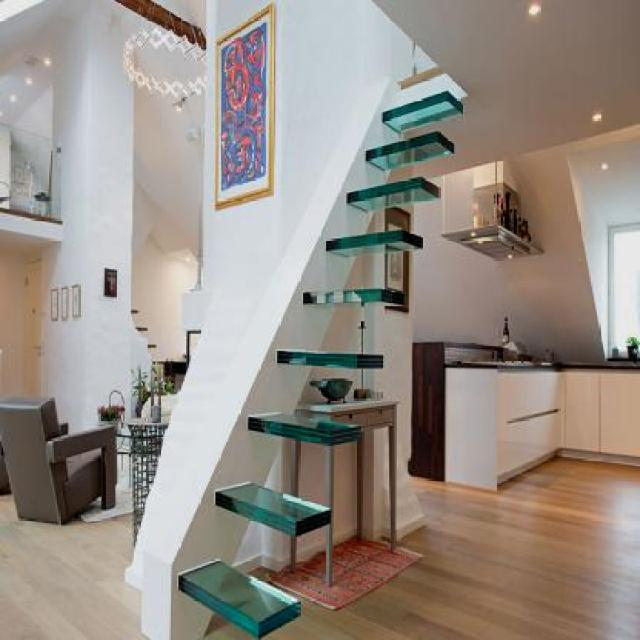stair: (146, 29, 471, 638)
